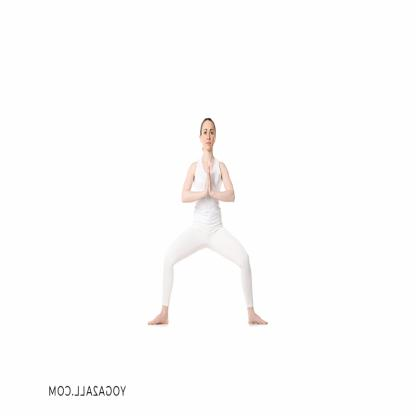godness: (143, 110, 273, 336)
